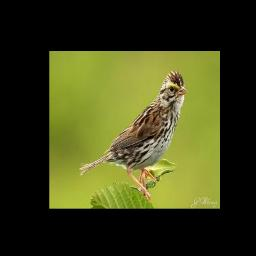Sparrow: (78, 66, 187, 202)
